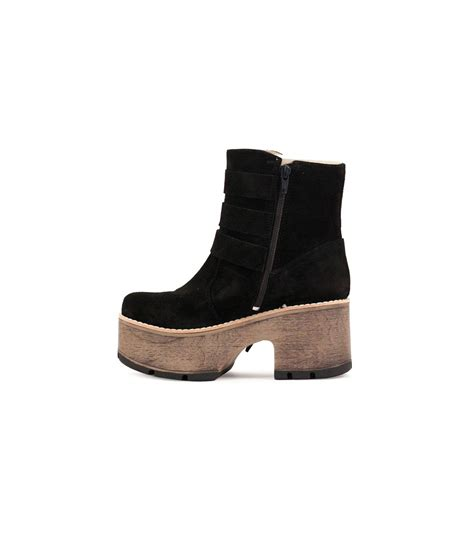gamuza: (121, 147, 352, 330)
